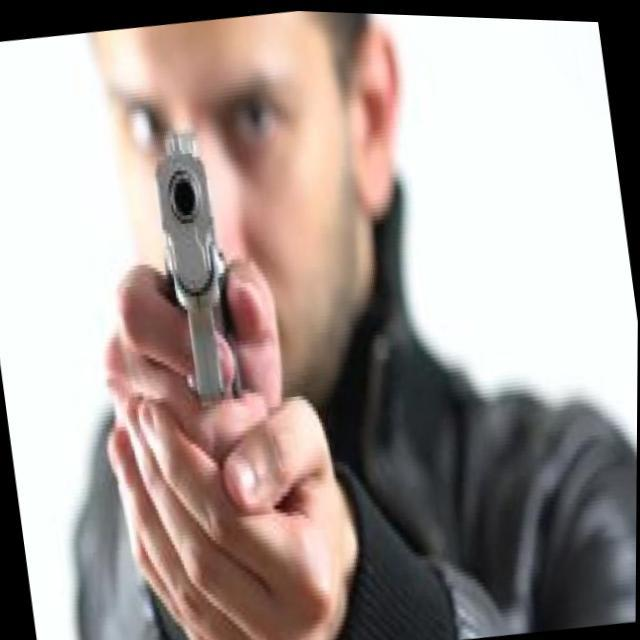weapon: (143, 118, 247, 404)
